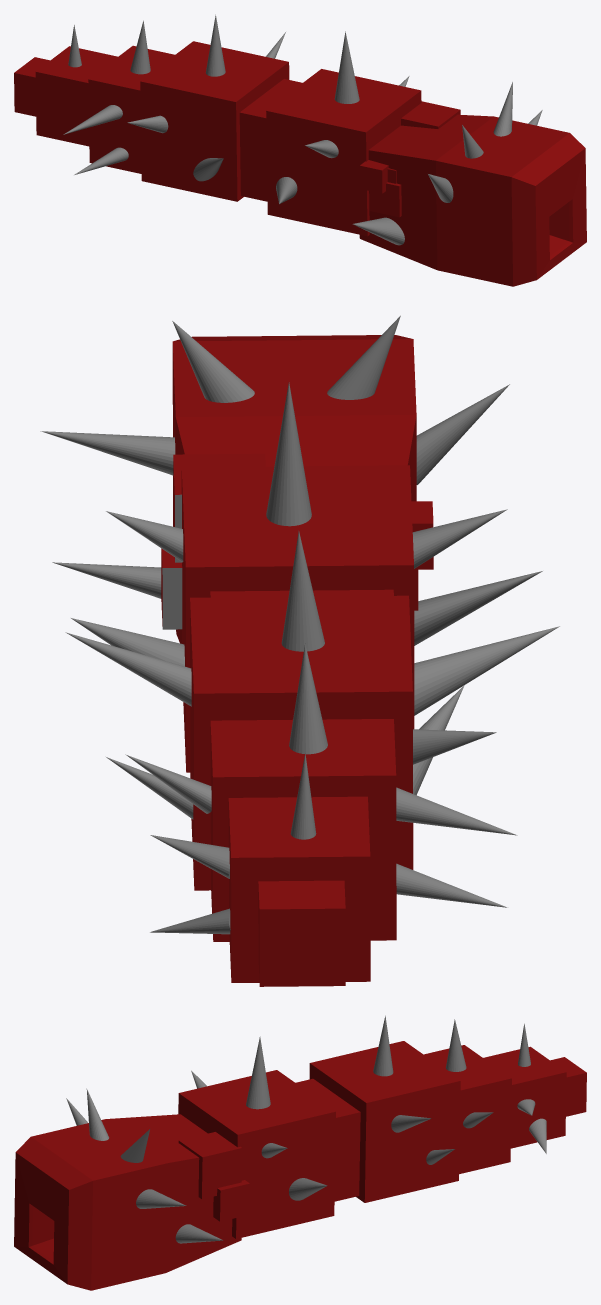
The model's file is ComputerWorm.fbx.
3 views of the same model, one above another, from view 1: azimuth 30°, elevation 25°; view 2: azimuth 150°, elevation 25°; view 3: azimuth 270°, elevation 25° (orthographic). The views are drawn at different scales.
Parts seen in each view (by area): view 1: Cone.003; view 2: Cone.003; view 3: Cone.003.
Boxes of the visible parts, box(x1,y1,x2,y2) form: Cone.003: box(14, 14, 586, 286); Cone.003: box(40, 315, 559, 986); Cone.003: box(14, 1015, 586, 1290).
Bounding box in the file's own units: 1345 × 664 × 1847.
